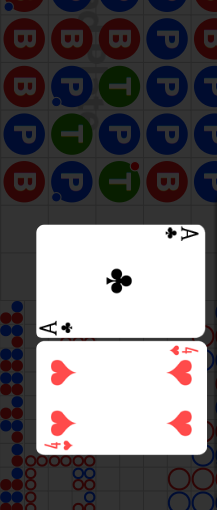4H: (168, 345, 199, 358)
AC: (39, 318, 77, 336)
